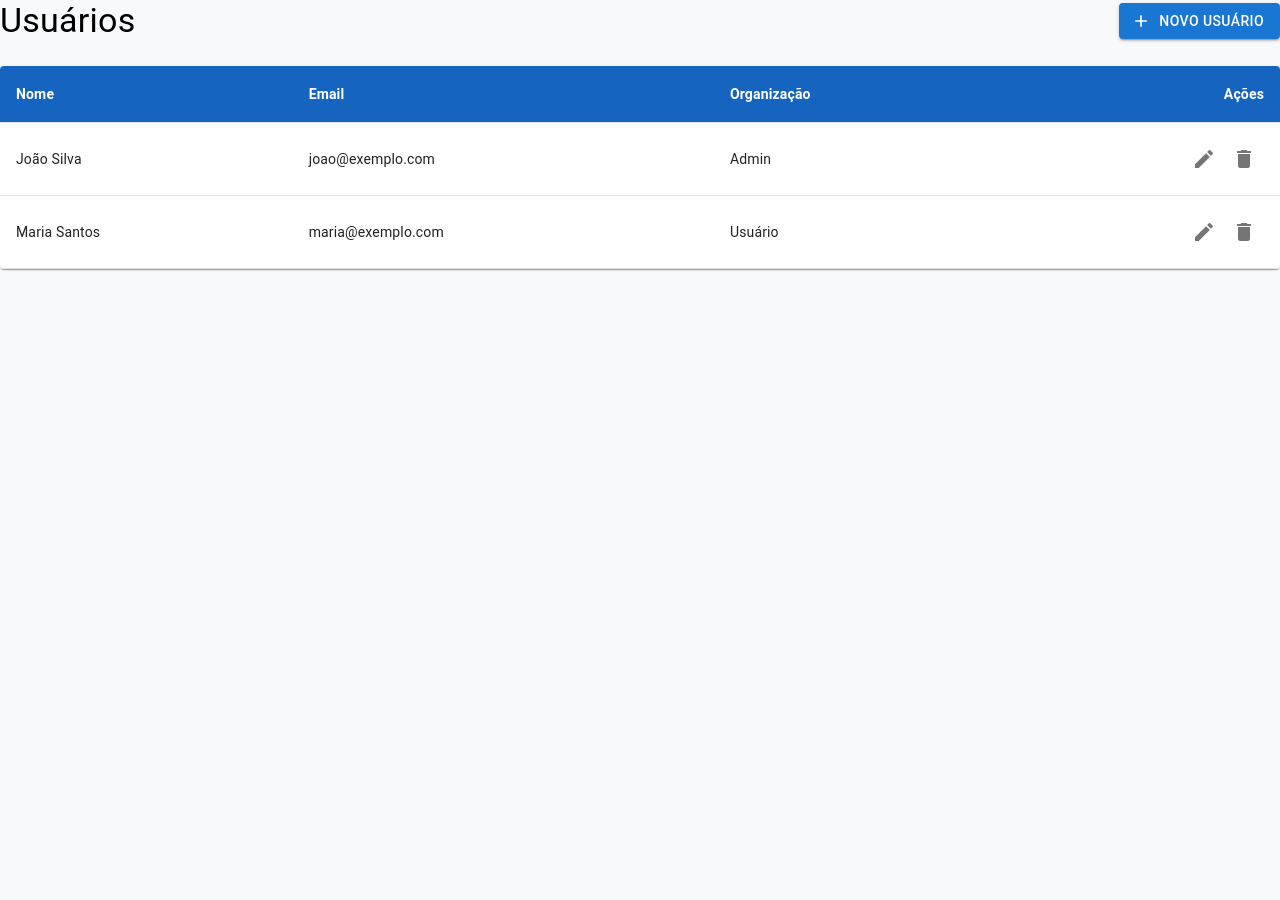
Scenario: ADMIN - Users CRUD › deve editar um usuário existente
Expected: the text "João Silva" is shown, [0,122,293,196]
# Clica no botão de editar
Click the button named "editar" in the row of "João Silva" at (1204, 159), box [1184,139,1224,179]
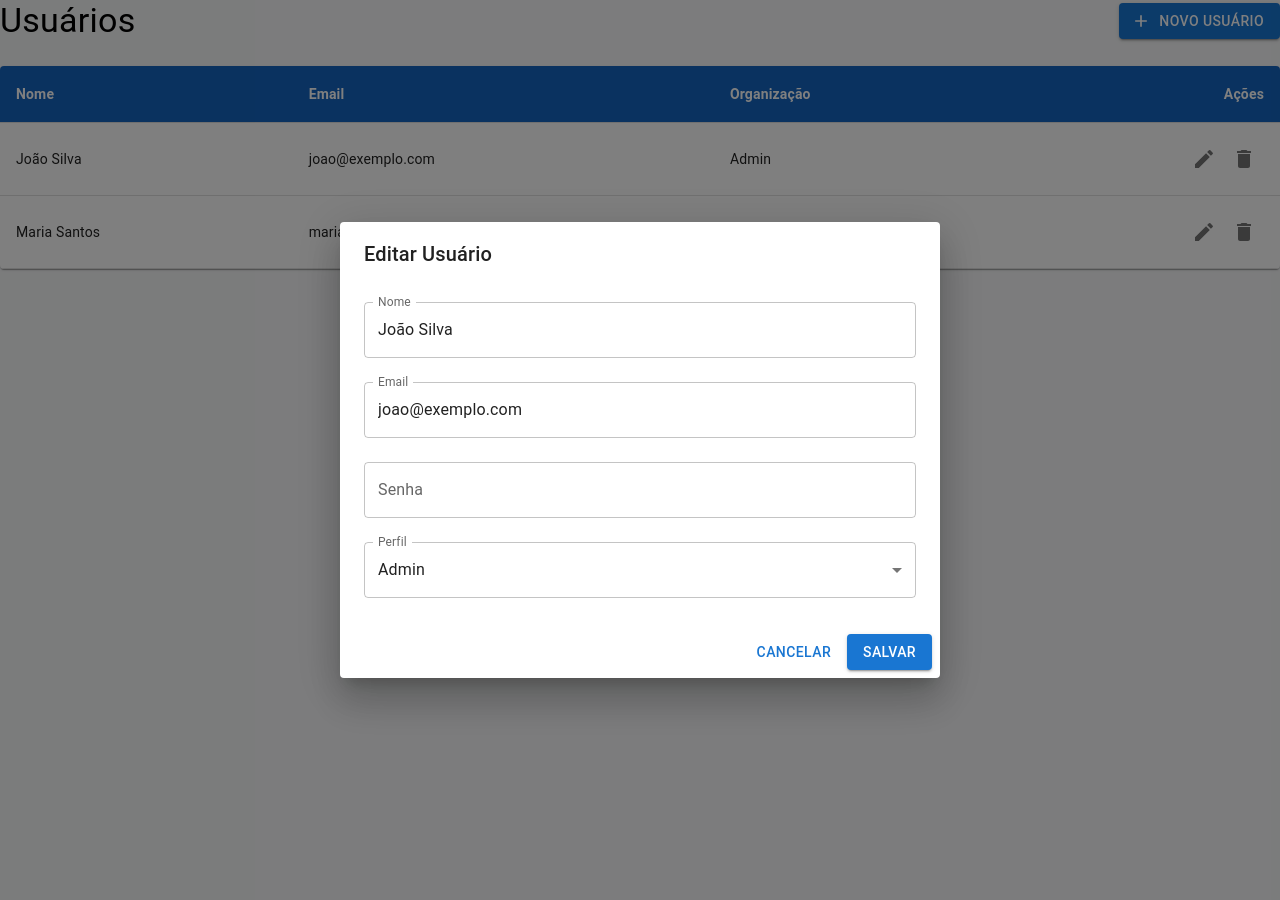
Now the dialog is shown, box [340,222,940,678]
Now the field labelled "Nome" holds "João Silva"
# Edita o nome
Replace the text in the field labelled "Nome" with "João Silva Modificado" at (640, 330), box [364,302,916,358]
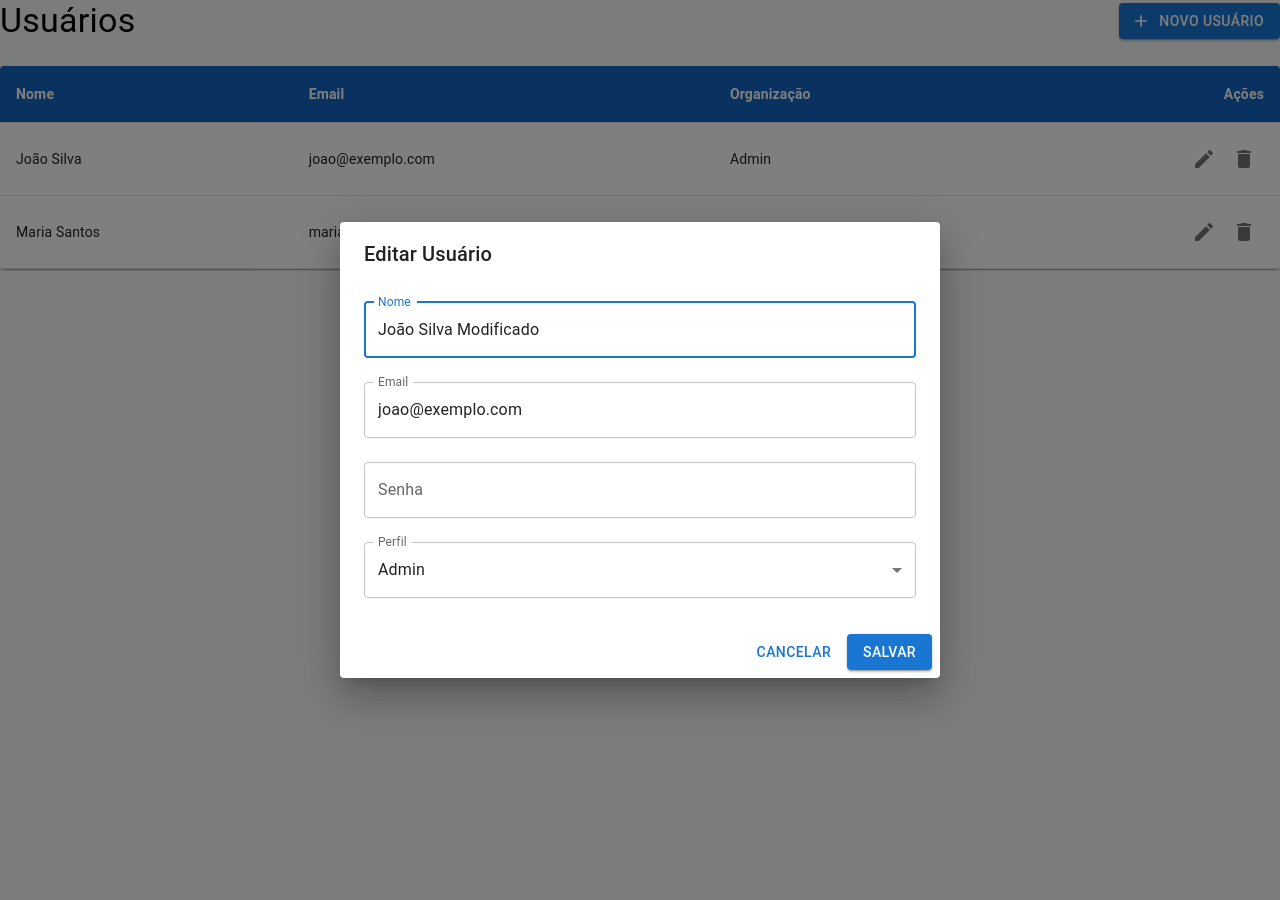
# Salva o formulário
Click the button "Salvar" at (890, 652), box [847,634,932,670]
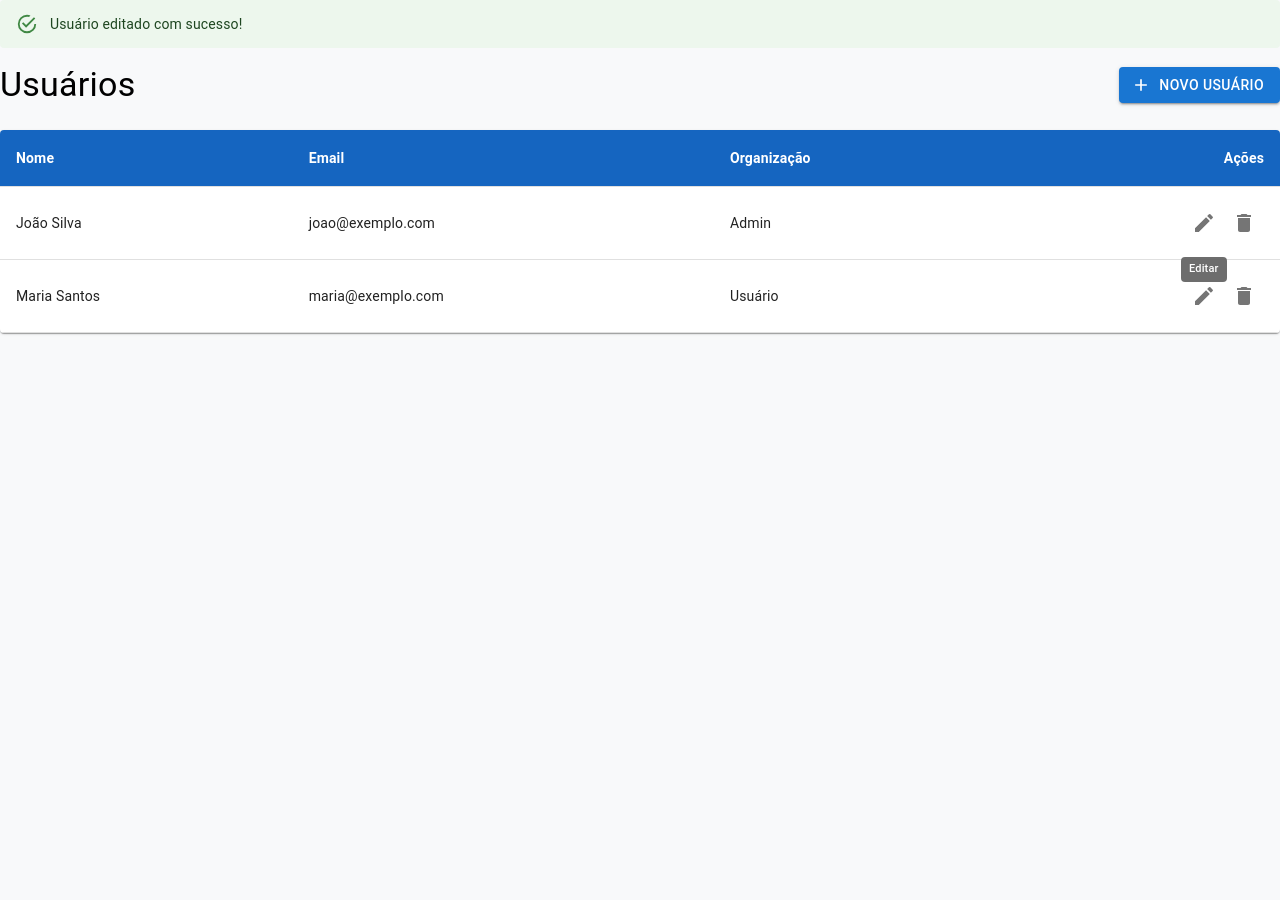
Now the text "Usuário editado com sucesso!" is shown, box [50,16,242,32]
